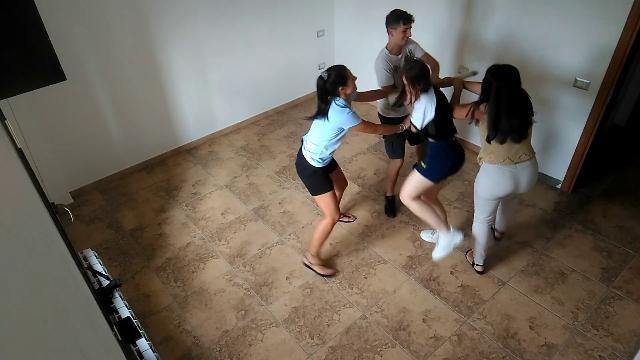violence: (295, 6, 541, 278)
